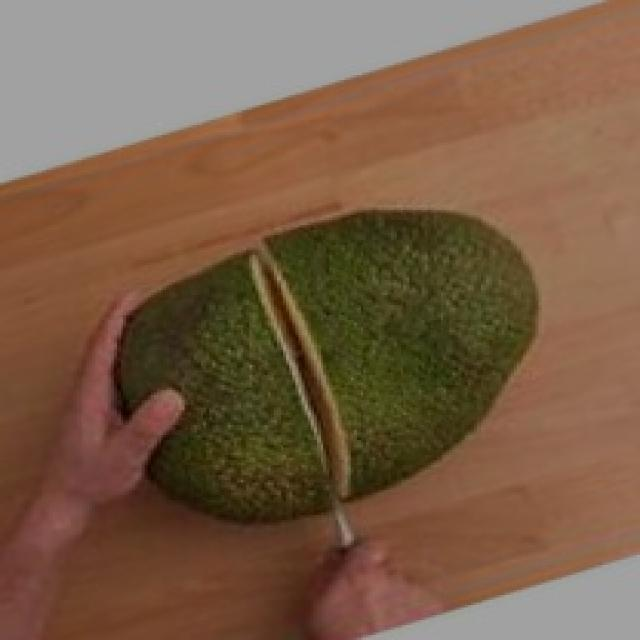Fruit: (237, 185, 569, 530), (74, 235, 381, 570)
